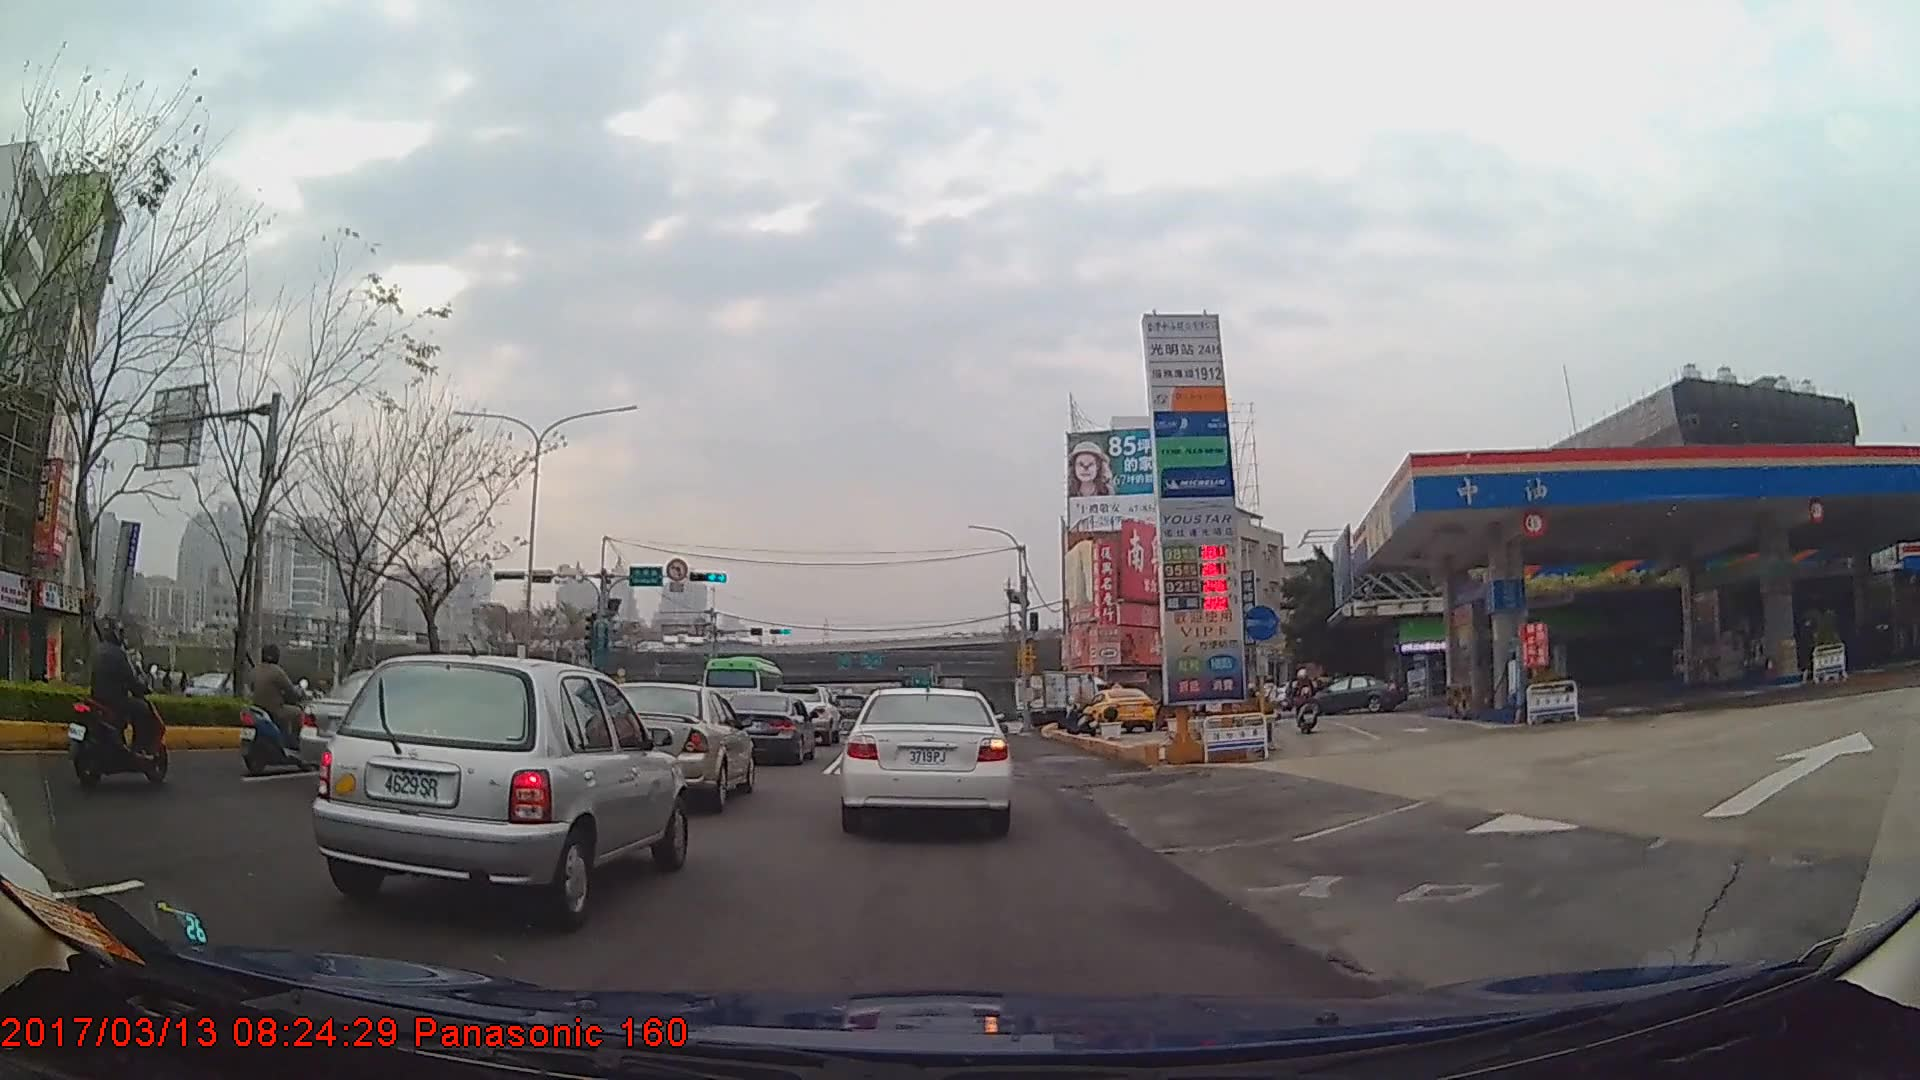rider: (66, 619, 165, 780), (234, 646, 318, 779), (1291, 669, 1319, 735), (1261, 675, 1283, 727)
vehicle: (307, 654, 689, 934), (841, 681, 1012, 835), (590, 682, 754, 815), (719, 691, 817, 767), (1011, 671, 1112, 731), (699, 654, 785, 721), (1303, 675, 1405, 714), (1085, 684, 1156, 732)
